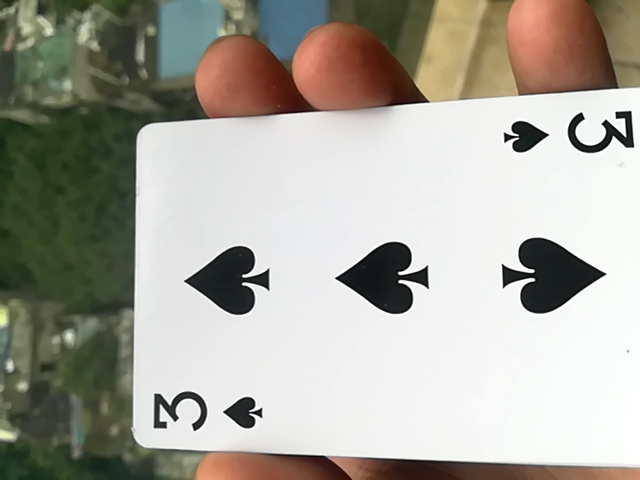ht 3: (120, 107, 636, 480)
